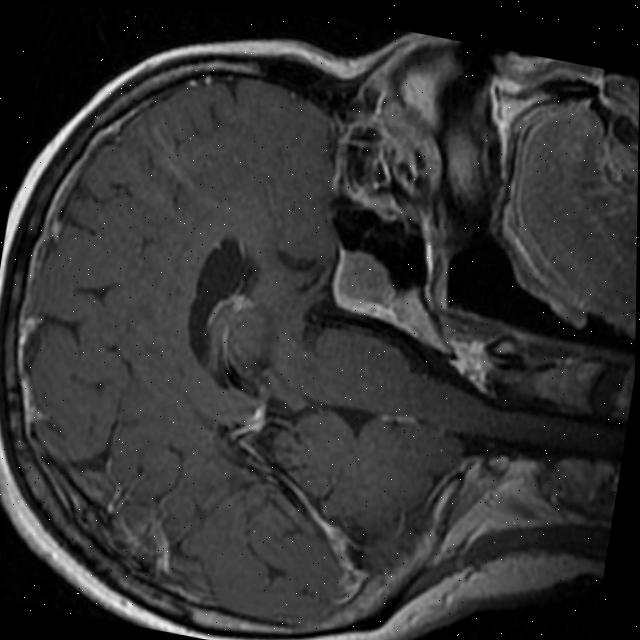Pituitary: (327, 245, 402, 322)
